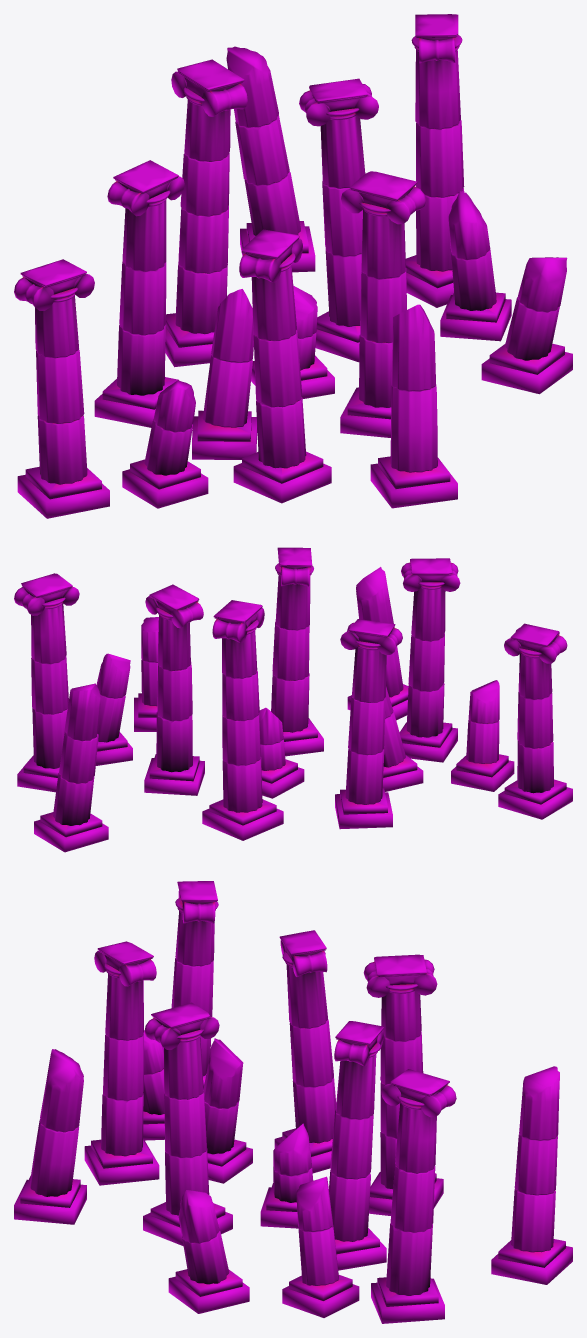
File: far_cols.glb
3 renders of one model, top to bottom at view 1: azimuth 30°, elevation 25°; view 2: azimuth 150°, elevation 25°; view 3: azimuth 270°, elevation 25°, orthographic. The views are drawn at different scales.
Visible parts, largest first — view 1: marble; view 2: marble; view 3: marble.
Boxes of the visible parts, x1=… form: marble: x1=14, y1=14, x2=572, y2=518; marble: x1=14, y1=547, x2=572, y2=852; marble: x1=14, y1=881, x2=572, y2=1323.
Size of the model in its own units: 7.5 by 3.41 by 7.11.
